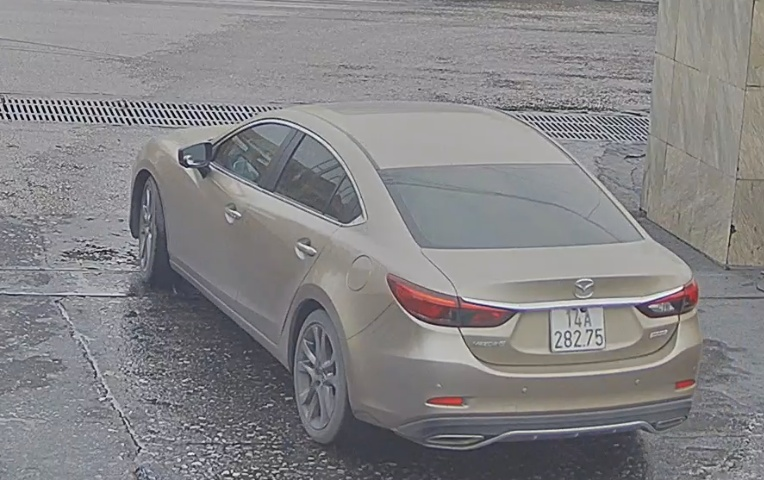vehicle plate: (543, 299, 609, 352)
